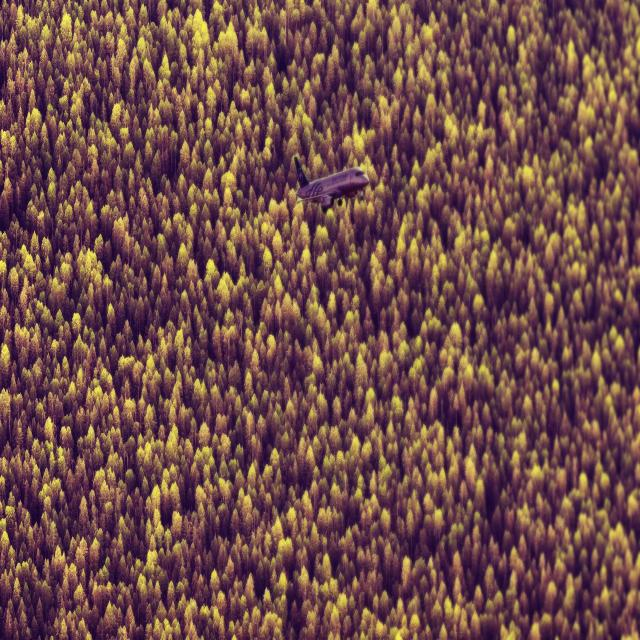airplane: (294, 154, 369, 213)
